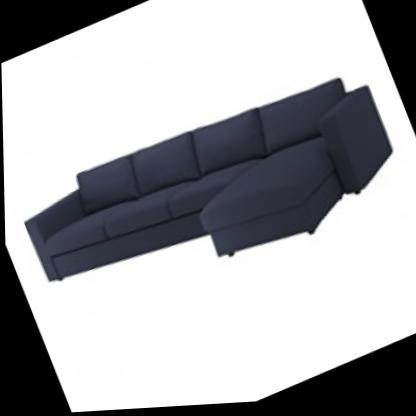Sofa: (1, 12, 416, 354)
